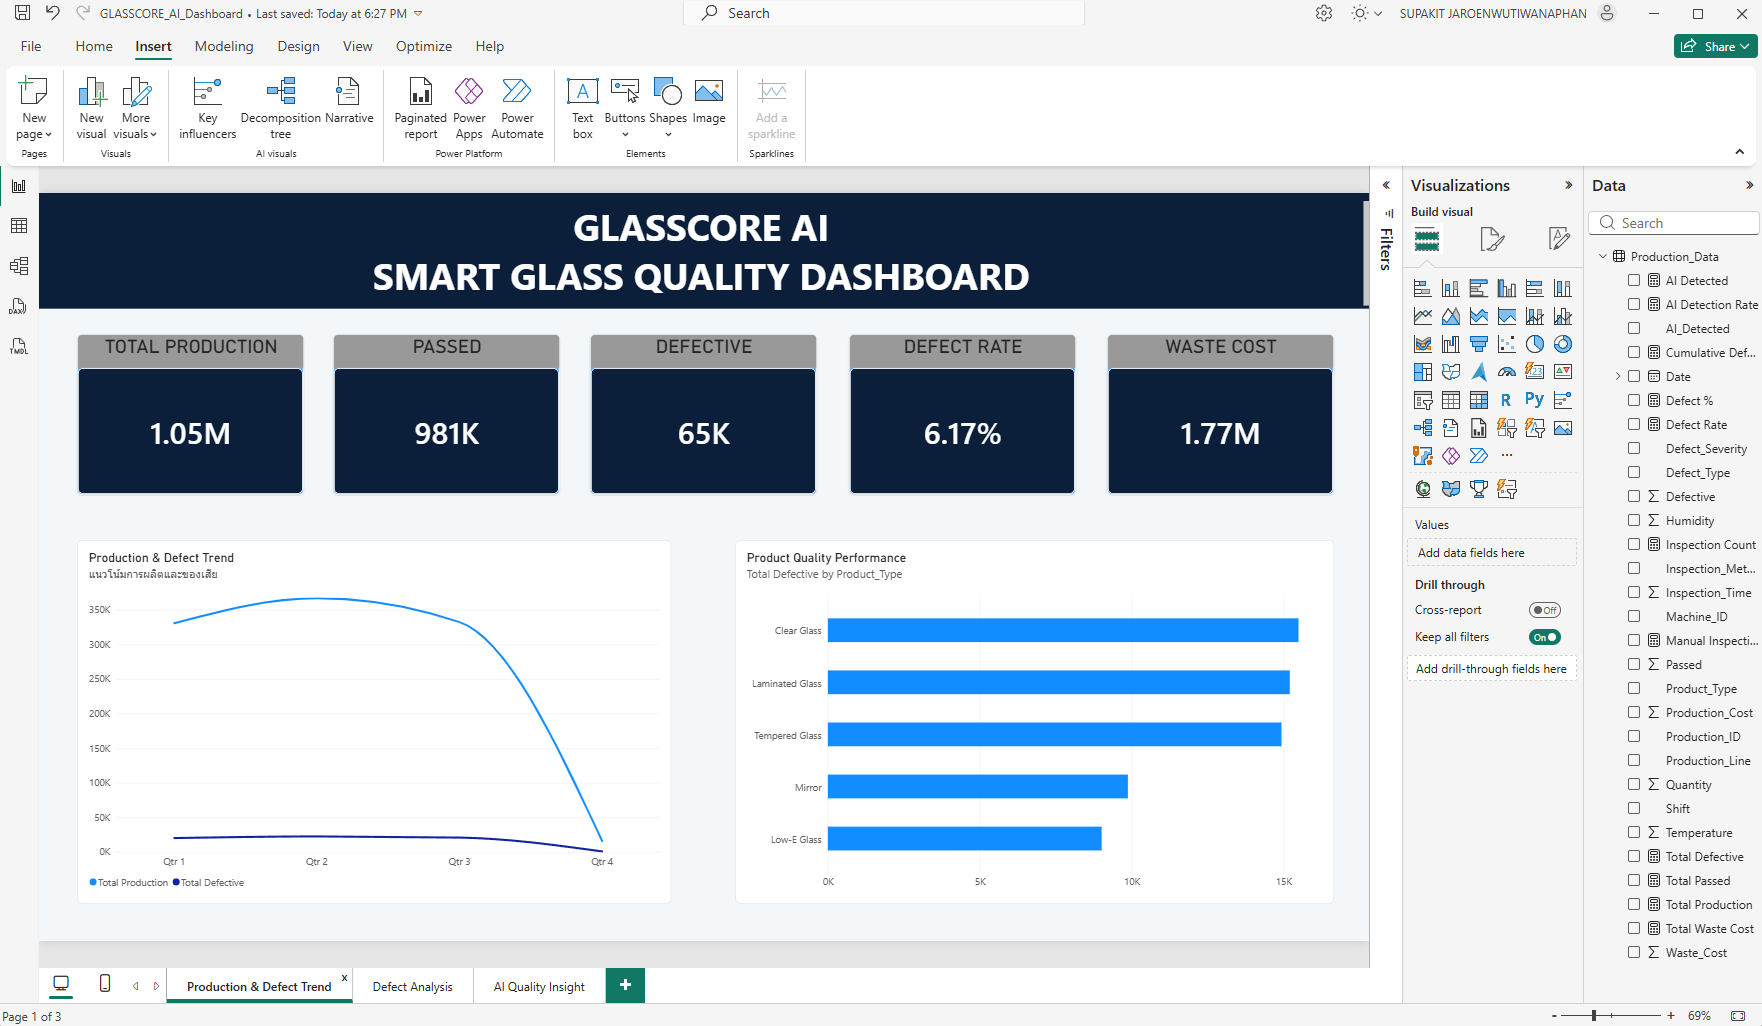

This screenshot's page, from the dashboard's own definition file:
{"tool":"powerbi","page":{"name":"Production & Defect Trend","canvas":[1920,1080],"ordinal":0},"visuals":[{"type":"cardVisual","title":"TOTAL PRODUCTION","fields":{"Data":["Production_Data.Total Production"]},"box":[54.9,203.5,327.7,232.4],"z":0},{"type":"cardVisual","title":"PASSED","fields":{"Data":["Production_Data.Total Passed"]},"box":[424.4,203.5,327.7,232.4],"z":1000},{"type":"cardVisual","title":"DEFECTIVE","fields":{"Data":["Production_Data.Total Defective"]},"box":[795.4,203.5,327.7,232.4],"z":2000},{"type":"cardVisual","title":"DEFECT RATE","fields":{"Data":["Production_Data.Defect Rate"]},"box":[1169.3,203.5,327.7,232.4],"z":3000},{"type":"cardVisual","title":"WASTE COST","fields":{"Data":["Production_Data.Total Waste Cost"]},"box":[1541.8,203.5,327.7,232.4],"z":4000},{"type":"shape","box":[0,0,1920,167.5],"z":5000},{"type":"textbox","box":[0,11.5,1920,155.9],"z":6000},{"type":"lineChart","title":"Production & Defect Trend","fields":{"Category":["Production_Data.Date.Variation.Date Hierarchy.Year","Production_Data.Date.Variation.Date Hierarchy.Quarter","Production_Data.Date.Variation.Date Hierarchy.Month","Production_Data.Date.Variation.Date Hierarchy.Day"],"Y":["Production_Data.Total Production","Production_Data.Total Defective"]},"box":[54.9,500.9,857.5,525.5],"z":7000},{"type":"clusteredBarChart","title":"Product Quality Performance","fields":{"Category":["Production_Data.Product_Type"],"Y":["Production_Data.Total Defective"]},"box":[1004.8,500.9,864.7,525.5],"z":8000}]}

Visuals, with their boxes on the page's 1920x1080 design canvas (x1, y1, x2, y2). These are canvas units, not pixel positions in the 1762x1026 screenshot, which may show the page scaled, cropped or inside an application window:
"TOTAL PRODUCTION" cardVisual: box=[55, 204, 383, 436]
"PASSED" cardVisual: box=[424, 204, 752, 436]
"DEFECTIVE" cardVisual: box=[795, 204, 1123, 436]
"DEFECT RATE" cardVisual: box=[1169, 204, 1497, 436]
"WASTE COST" cardVisual: box=[1542, 204, 1870, 436]
shape: box=[0, 0, 1920, 168]
textbox: box=[0, 12, 1920, 167]
"Production & Defect Trend" lineChart: box=[55, 501, 912, 1026]
"Product Quality Performance" clusteredBarChart: box=[1005, 501, 1870, 1026]
